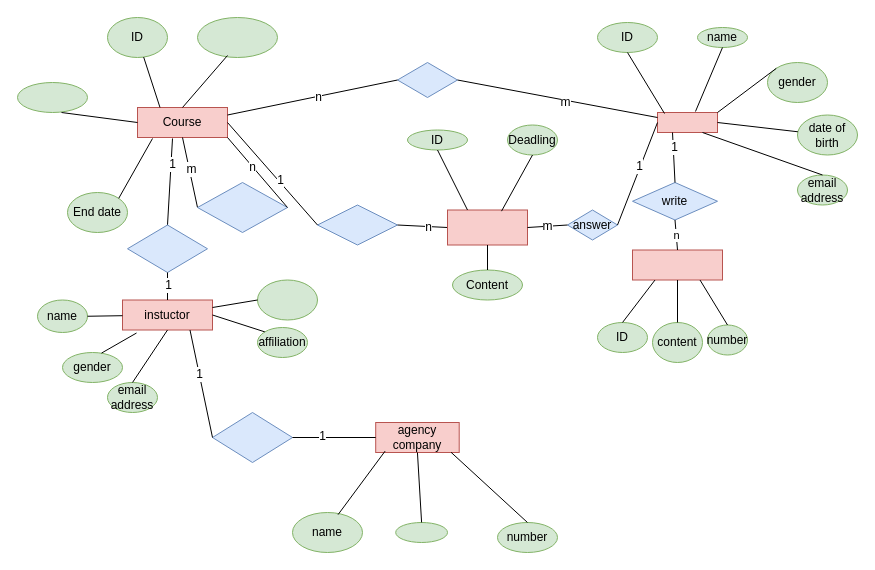
Some shapes in this 875 by 570 pixel diagram are drawn without their labels. Here are the shapes that lost their labels. From the top down, the box of each, then its label:
(196, 16, 278, 58): title
(16, 82, 88, 112): Start Date
(396, 62, 458, 98): take
(656, 112, 718, 132): user
(196, 182, 288, 232): is prerequisites
(316, 204, 398, 245): offer
(446, 209, 528, 245): assignment
(126, 224, 208, 272): teach
(632, 249, 722, 280): review
(256, 279, 318, 320): profile picture
(212, 412, 292, 462): belongs to
(395, 522, 448, 542): reputation
